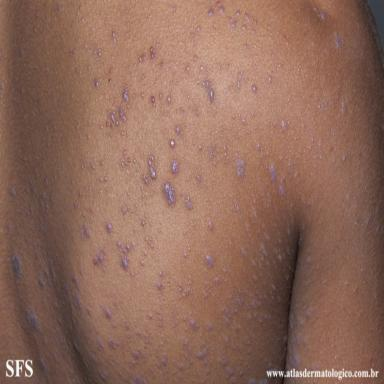lichen: (116, 241, 134, 270), (25, 308, 41, 332), (136, 322, 151, 343), (163, 182, 175, 205), (93, 247, 107, 265), (235, 153, 245, 178), (12, 254, 22, 278), (169, 303, 179, 327), (205, 79, 215, 102), (289, 350, 301, 368), (121, 150, 132, 169), (179, 281, 191, 298), (249, 291, 261, 308), (303, 305, 317, 319), (149, 155, 157, 179), (81, 223, 91, 240), (121, 200, 133, 214), (98, 368, 109, 383), (222, 307, 231, 325), (191, 26, 201, 40), (74, 294, 82, 311), (335, 31, 343, 48), (203, 281, 211, 298), (26, 180, 35, 195), (109, 112, 119, 125), (145, 236, 155, 249), (181, 337, 191, 350), (233, 199, 241, 215), (270, 164, 277, 182), (209, 142, 216, 160), (119, 107, 127, 122), (39, 358, 47, 373), (300, 335, 310, 347), (185, 196, 193, 210), (171, 160, 179, 174), (73, 339, 80, 355), (197, 349, 207, 360), (190, 319, 199, 331), (157, 309, 163, 327), (294, 315, 303, 327), (38, 277, 46, 290), (205, 255, 213, 268), (234, 297, 244, 307), (176, 107, 186, 117), (72, 276, 79, 290), (97, 335, 104, 349), (122, 85, 128, 101), (105, 221, 113, 233), (279, 180, 285, 196), (108, 336, 115, 349), (365, 214, 372, 227), (73, 200, 82, 210), (134, 376, 145, 384), (251, 272, 259, 283), (9, 187, 17, 198), (221, 355, 228, 367), (103, 307, 110, 319), (50, 267, 55, 283), (261, 245, 267, 258), (142, 174, 149, 185), (281, 120, 287, 132), (223, 145, 227, 163), (318, 11, 326, 20), (133, 348, 140, 358), (241, 247, 247, 258), (150, 47, 155, 60), (162, 353, 167, 366), (238, 72, 242, 88), (177, 362, 184, 371), (28, 205, 34, 215), (193, 106, 199, 116), (207, 322, 214, 330), (311, 363, 319, 370), (34, 168, 39, 179), (157, 281, 163, 290), (155, 360, 161, 369), (227, 367, 233, 376), (49, 195, 55, 204), (257, 139, 261, 152), (94, 78, 99, 88), (86, 306, 91, 316), (40, 201, 45, 211), (317, 139, 322, 149), (225, 337, 230, 347), (170, 139, 175, 149), (78, 190, 85, 197), (181, 314, 188, 321), (139, 53, 145, 61), (342, 101, 346, 113), (175, 126, 180, 135), (44, 268, 49, 277), (97, 48, 102, 57), (245, 12, 250, 21), (245, 128, 251, 135), (305, 257, 311, 264), (151, 96, 155, 106), (99, 177, 107, 182), (209, 221, 213, 231), (209, 8, 214, 16), (219, 5, 224, 13), (231, 20, 236, 28), (277, 254, 282, 262), (215, 277, 220, 285), (117, 369, 122, 377), (158, 61, 163, 69), (140, 260, 145, 267), (253, 18, 258, 25), (198, 144, 203, 151), (276, 296, 281, 303), (205, 368, 210, 375), (130, 269, 135, 276), (125, 323, 130, 330), (112, 30, 115, 41), (142, 249, 146, 257), (159, 271, 163, 279), (253, 84, 257, 92), (197, 174, 201, 182), (7, 224, 11, 232), (236, 10, 241, 16), (271, 285, 276, 291), (243, 43, 248, 49), (313, 6, 318, 12), (112, 322, 117, 328), (148, 313, 153, 319), (91, 163, 95, 170), (100, 160, 104, 167), (141, 219, 145, 226), (53, 352, 57, 359), (159, 92, 163, 99), (167, 96, 171, 103), (216, 0, 220, 7), (183, 252, 187, 259), (283, 335, 287, 342), (81, 162, 85, 169), (251, 29, 255, 35), (213, 160, 217, 166), (193, 55, 197, 61), (186, 66, 190, 72), (82, 210, 85, 217), (90, 206, 93, 213), (242, 24, 246, 29), (239, 371, 243, 376), (106, 121, 109, 127), (251, 110, 254, 116), (173, 6, 176, 12), (343, 154, 346, 160), (127, 103, 130, 109), (200, 65, 203, 71), (109, 69, 113, 73), (141, 92, 144, 97), (109, 79, 112, 83), (184, 123, 187, 127), (269, 77, 271, 82), (278, 64, 281, 67)
